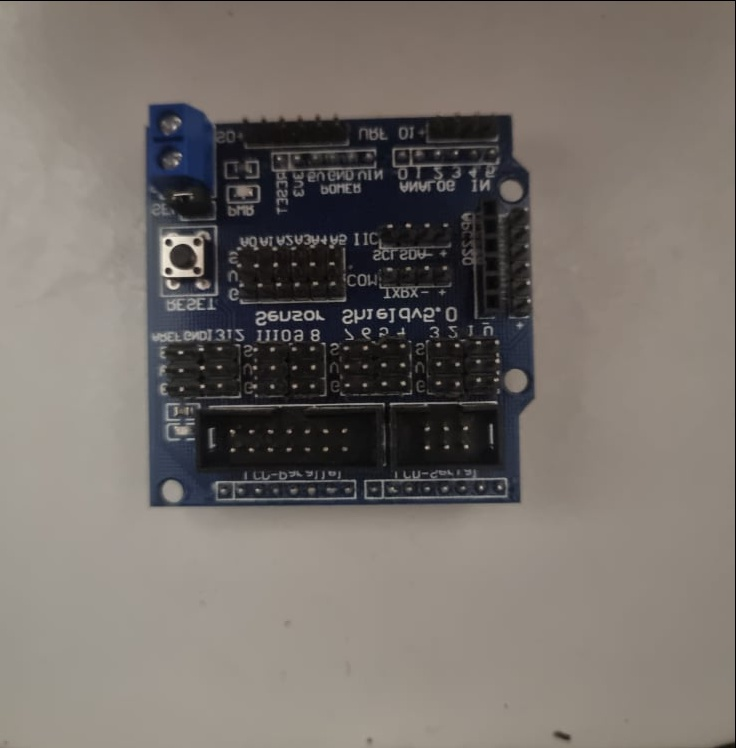5V EXPANSION: (144, 102, 530, 508)
